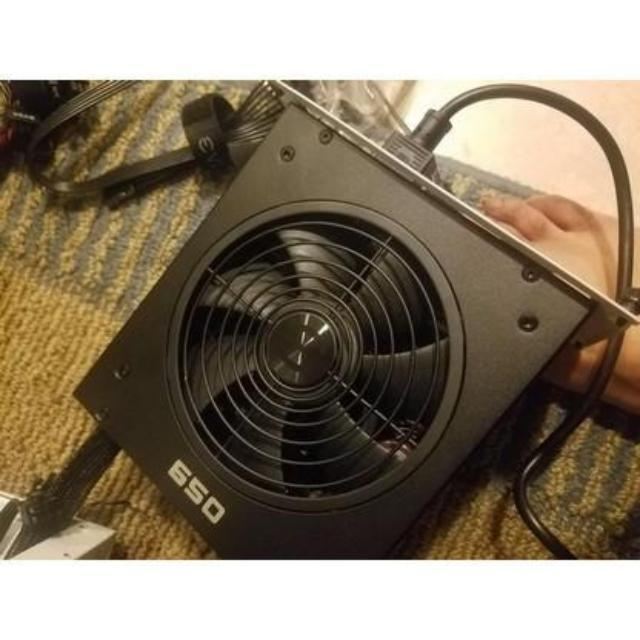PSU: (69, 81, 608, 564)
